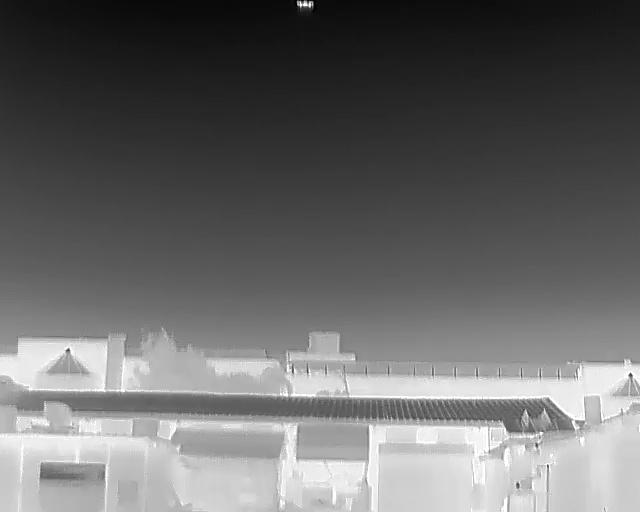fpv-drone: (296, 0, 314, 12)
